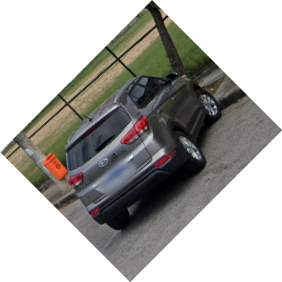car: (63, 74, 221, 231)
